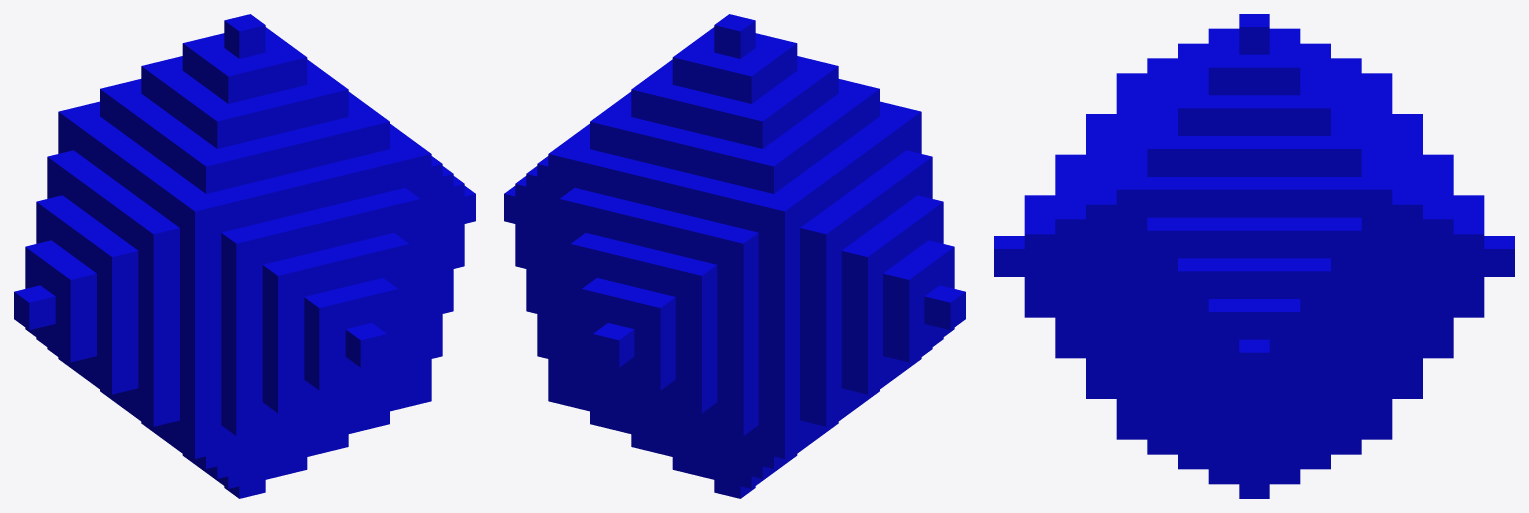
File: mana orb.obj
The picture shows the model from 3 angles, left to right: view 1: azimuth 30°, elevation 25°; view 2: azimuth 150°, elevation 25°; view 3: azimuth 270°, elevation 25°; orthographic projection.
Bounding box in the file's own units: 1.7 × 1.7 × 1.7.
Materials: 1 (1 with a texture image).
